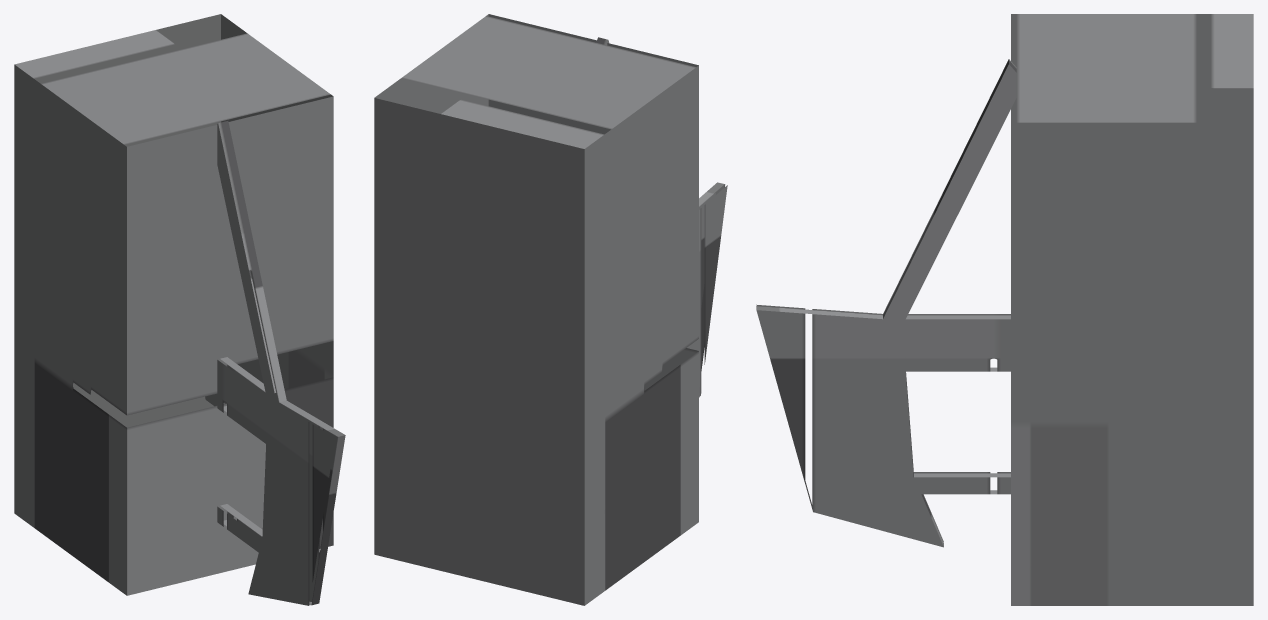
3 views of the same model, side by side, from view 1: azimuth 30°, elevation 25°; view 2: azimuth 150°, elevation 25°; view 3: azimuth 270°, elevation 25° (orthographic). The views are drawn at different scales.
Size of the model in its own units: 0.408 by 0.8515 by 0.7895.
